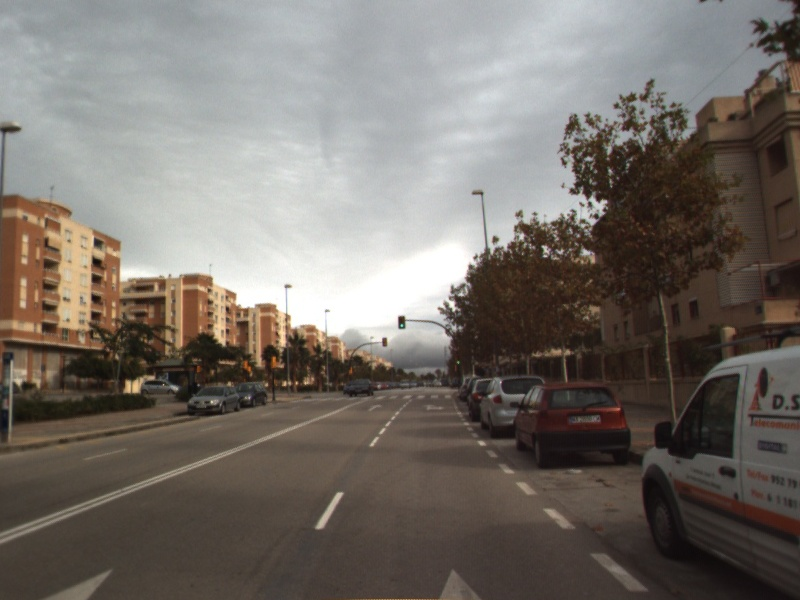STRAIGHT: (366, 402, 385, 413)
STRAIGHT_RIGHT: (421, 402, 447, 413)
